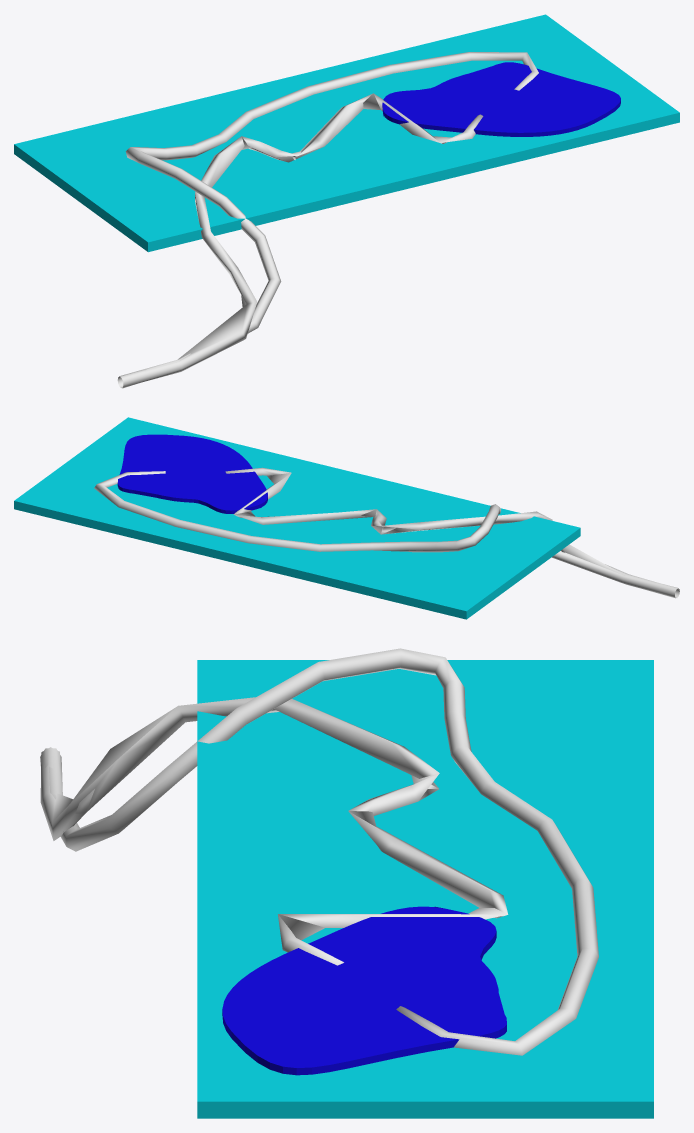
File: Electric_2T_floor.fbx
3 views of the same model, one above another, from view 1: azimuth 30°, elevation 25°; view 2: azimuth 150°, elevation 25°; view 3: azimuth 270°, elevation 25° (orthographic). The views are drawn at different scales.
Parts seen in each view (by area): view 1: Electric_2T_floor; view 2: Electric_2T_floor; view 3: Electric_2T_floor.
Part boxes in pixels (x1,y1,x2,y2): Electric_2T_floor: [14, 14, 679, 388]; Electric_2T_floor: [14, 417, 679, 619]; Electric_2T_floor: [40, 648, 653, 1118].
Size of the model in its own units: 2.19 by 1.14 by 0.452.
